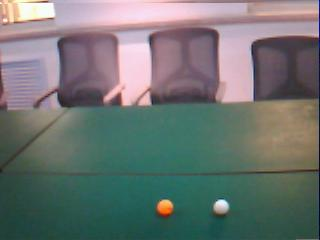oball: (158, 198, 173, 216)
